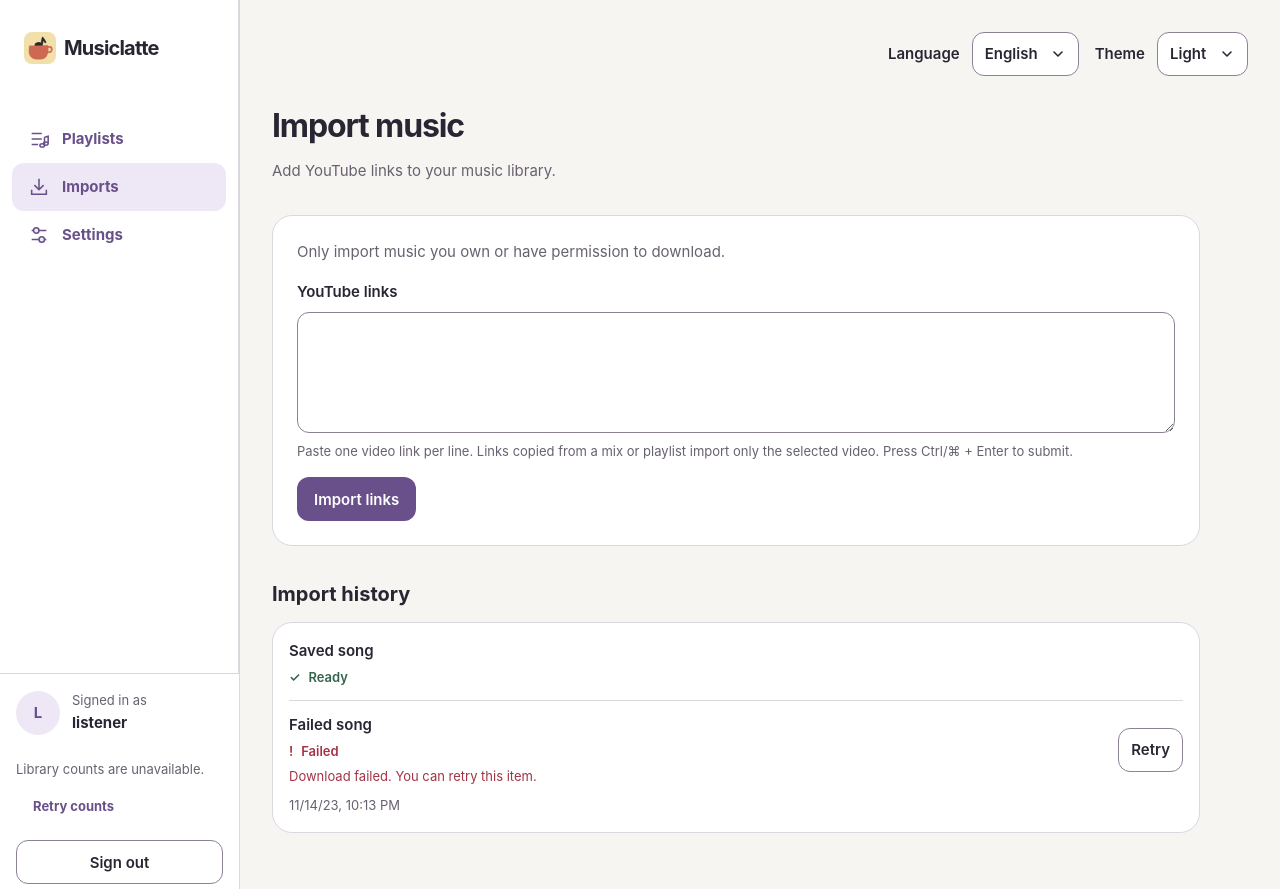
imports route and durable job UI › should retain successes, link a retry child and distinguish cancel requested from cancelled
The width and height of the screenshot is (1280, 889).
Expected: the heading "Saved song" is shown, [289, 641, 374, 660]
Click the button with aria-label "Retry Failed song". click: (1151, 750)
box: [1118, 728, 1183, 772]
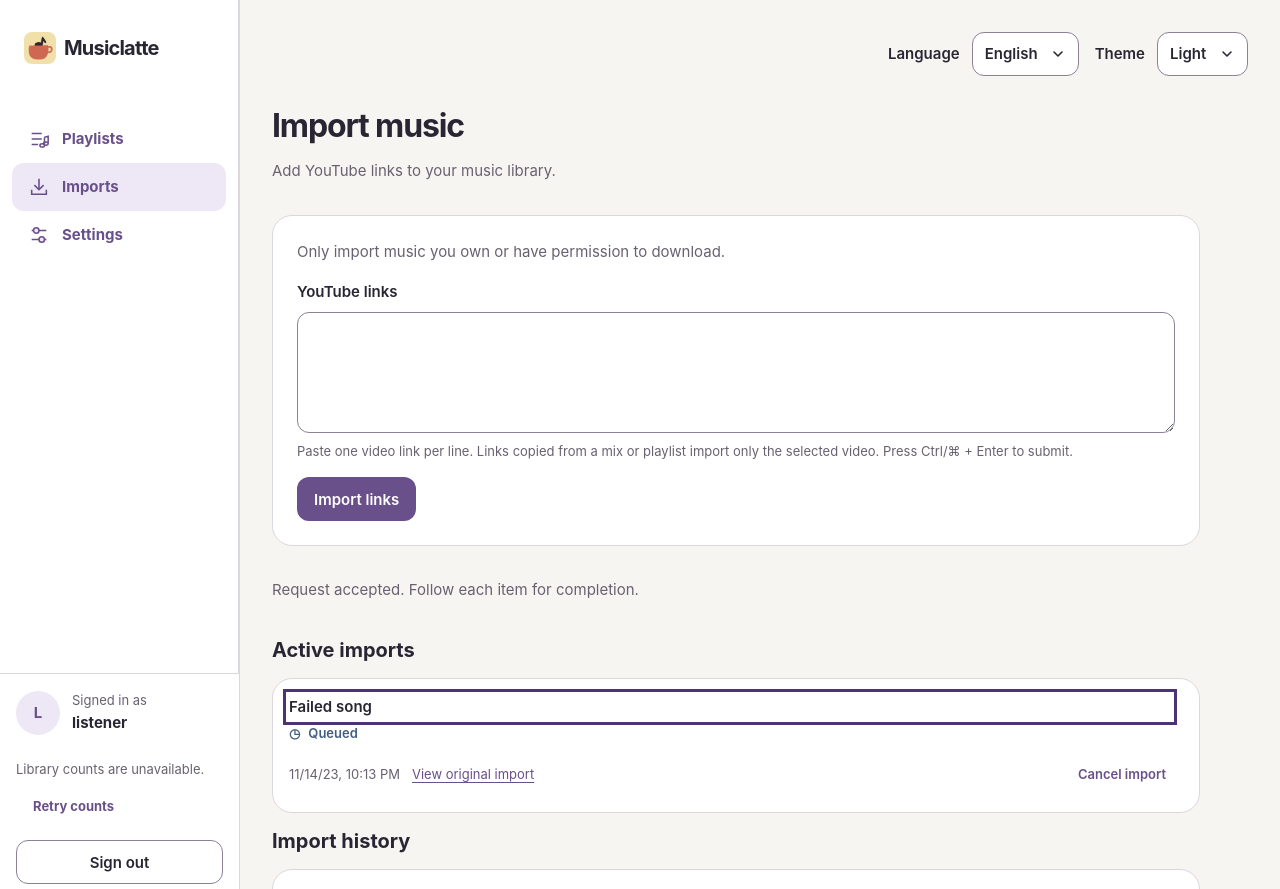
Expected: the text "Queued" is shown, [308, 723, 358, 744]
Click the button "Cancel import". click: (1122, 774)
box: [1061, 752, 1183, 796]
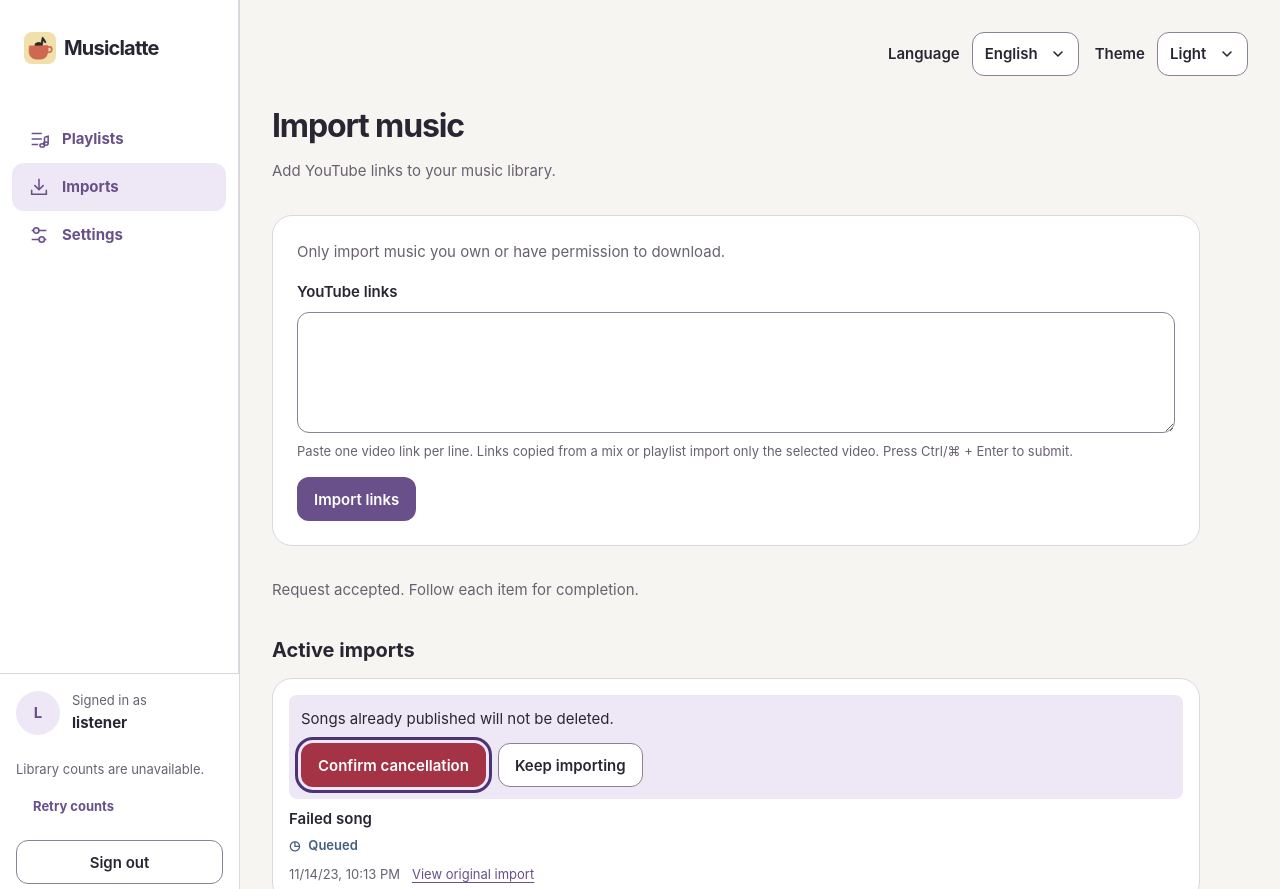
Expected: the text "Songs already published will not be deleted." is shown, [301, 709, 614, 728]
Click the button "Confirm cancellation". click: (393, 765)
box: [301, 743, 486, 787]
(page scrolled)
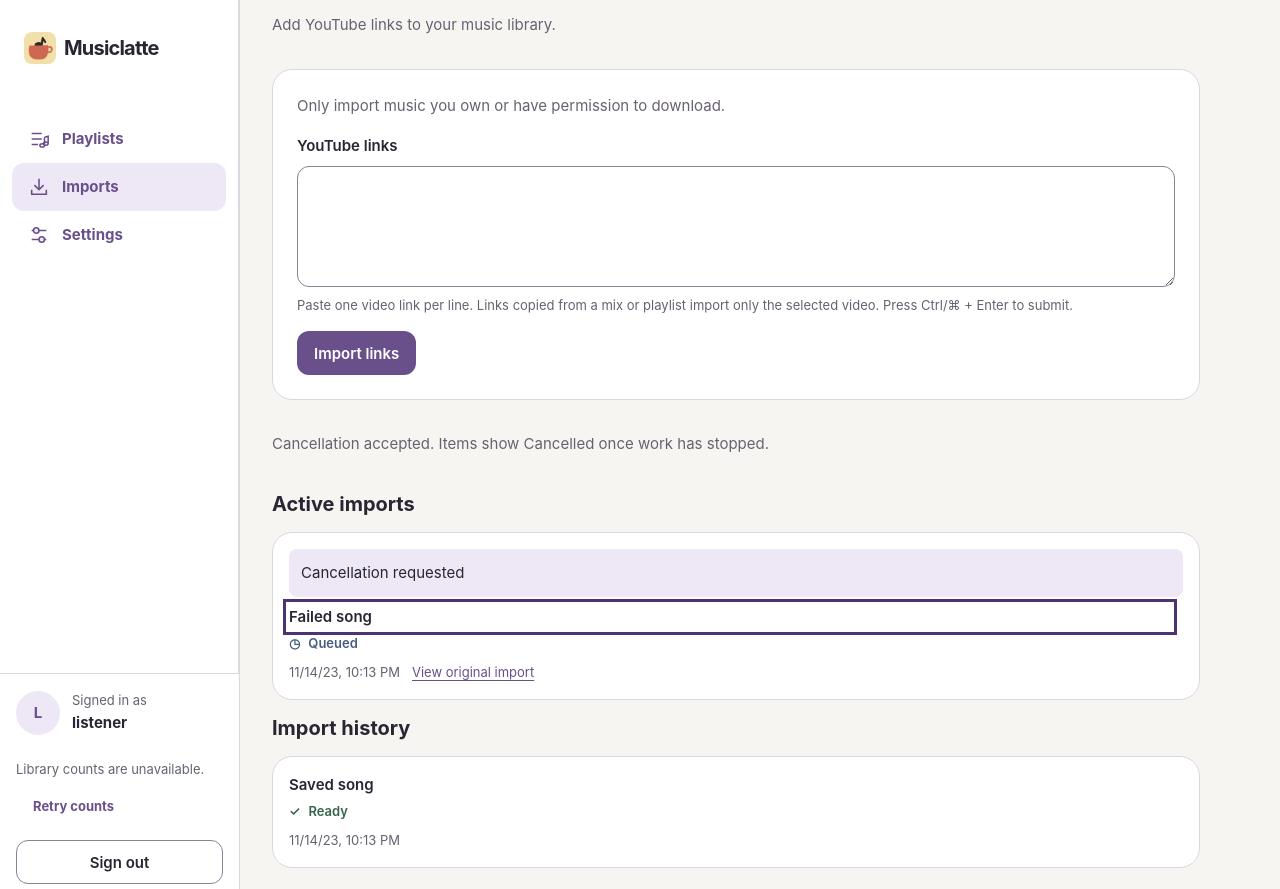
Expected: the heading "Saved song" is shown, [289, 775, 374, 794]
Expected: the text "Cancellation requested" is shown, [289, 549, 1183, 597]
